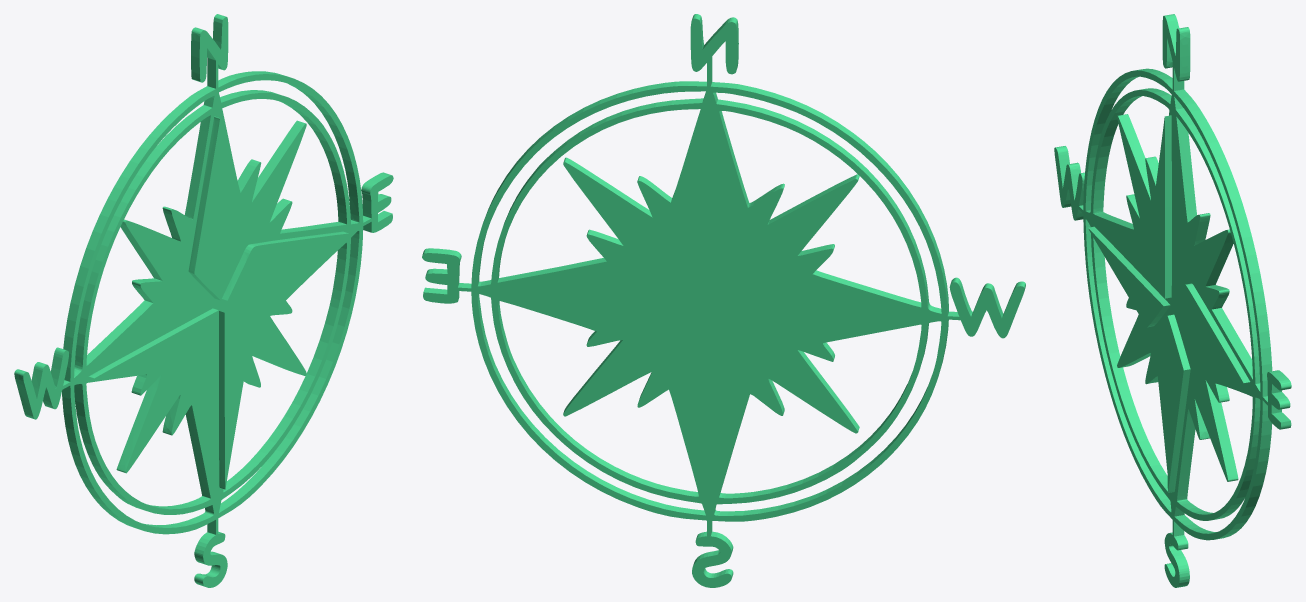
Rendered from compass.glb.
3 views of the same model, side by side, from view 1: azimuth 30°, elevation 25°; view 2: azimuth 150°, elevation 25°; view 3: azimuth 270°, elevation 25° (orthographic).
Visible parts, largest first — view 1: Object.1; view 2: Object.1; view 3: Object.1.
Part boxes in pixels (box(x1,y1,x2,y2)): Object.1: box(14, 14, 393, 587); Object.1: box(422, 14, 1025, 587); Object.1: box(1054, 14, 1291, 587).
Bounding box in the file's own units: 6.88 × 7.6 × 2.9.
